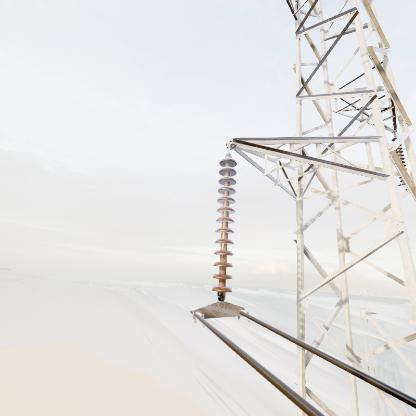insulator: (211, 155, 238, 303)
